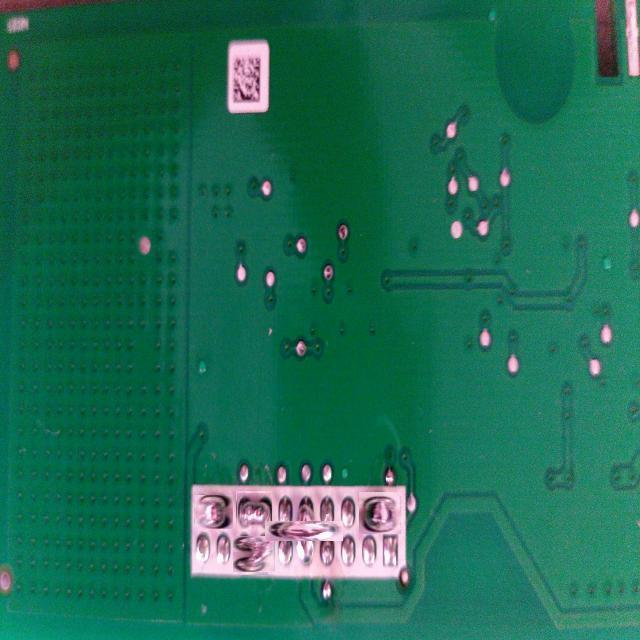Short_circuit: (280, 506, 329, 556), (359, 492, 402, 534), (235, 534, 274, 574), (194, 494, 232, 530), (236, 492, 272, 530)
